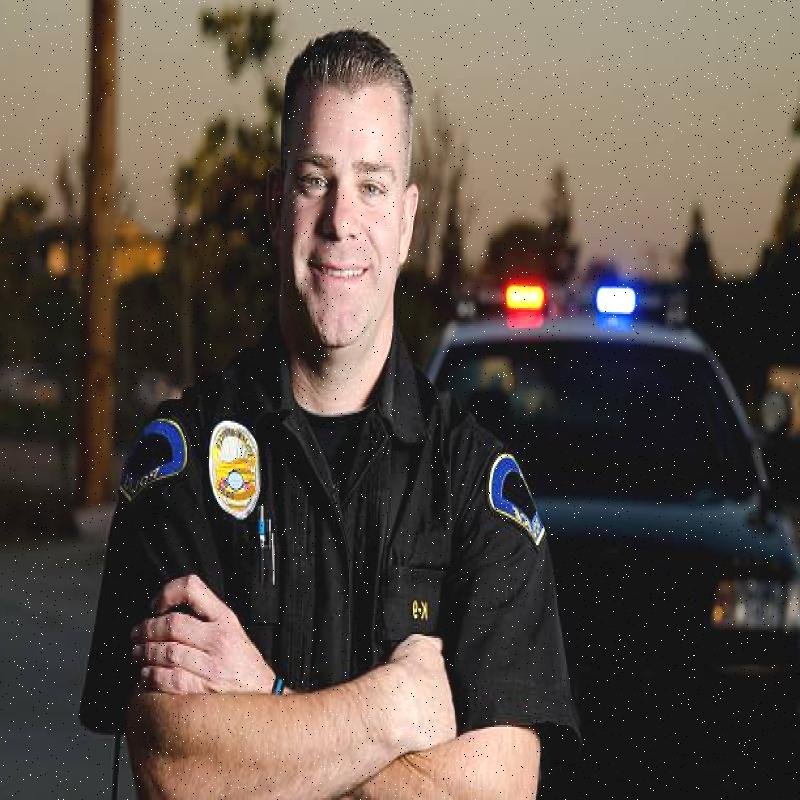AmbulanceSiren: (492, 263, 682, 326)
